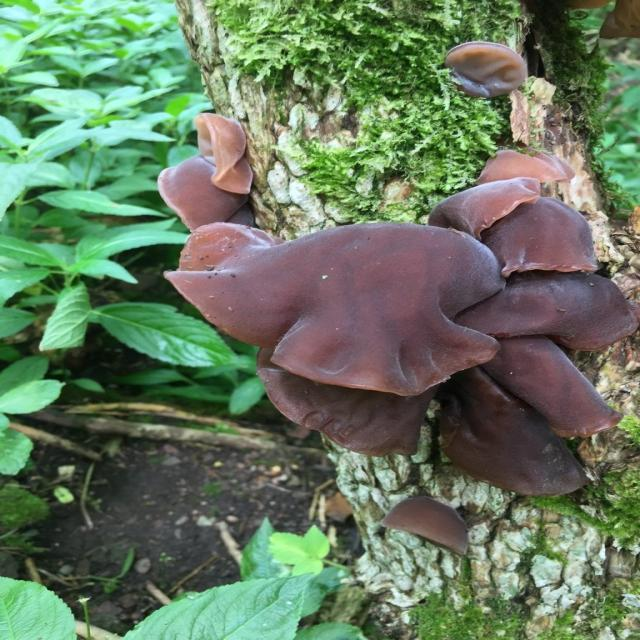Fase Muda: (442, 36, 537, 101), (190, 110, 260, 198), (479, 146, 578, 188)
Matang: (163, 218, 516, 400), (248, 346, 433, 470), (434, 367, 590, 500), (484, 331, 628, 446), (445, 271, 639, 350), (466, 190, 616, 280), (368, 490, 492, 564), (423, 176, 545, 236), (154, 157, 248, 230)
